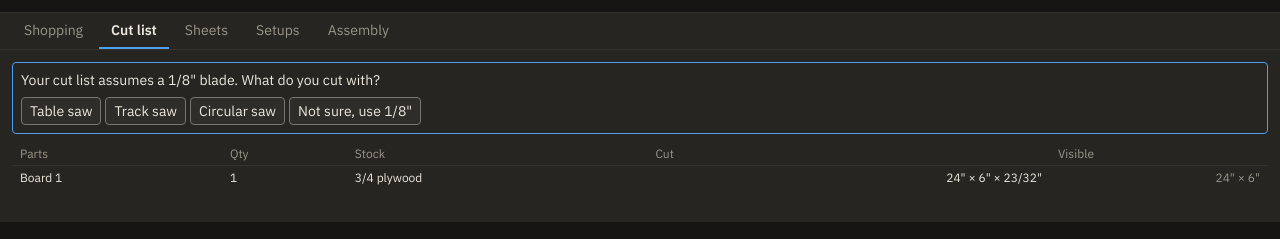
Test: <Drawer> › a tab with nothing in it › says there is nothing to machine, not that a problem is in the way, when there is no error
The image size is (1280, 239).
Click the tab "Setups" at (278, 31), box [244, 13, 312, 49]
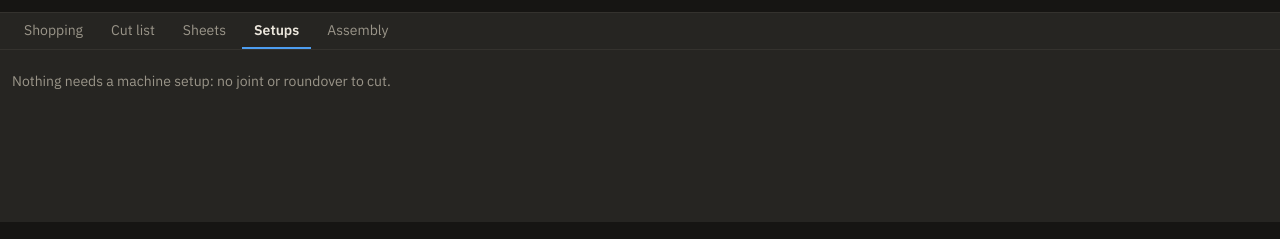
Result: the text "Nothing needs a machine setup: no joint or roundover to cut." is shown at [12, 72, 391, 90]
